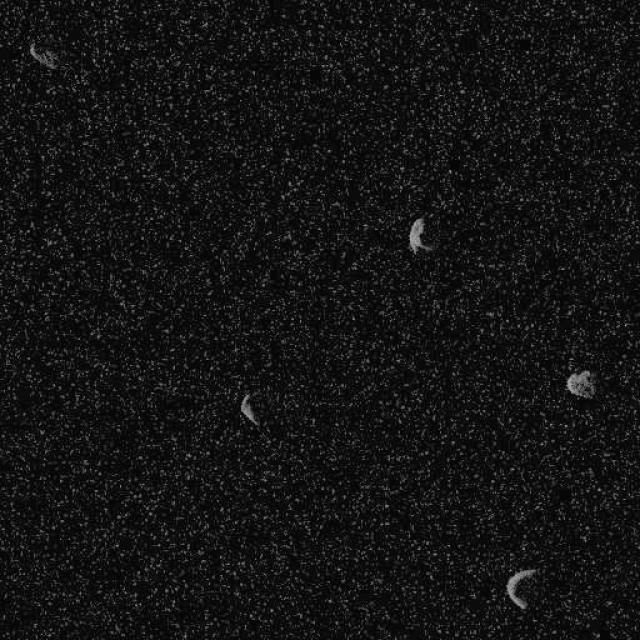D2: (503, 566, 538, 610), (28, 40, 62, 70), (408, 216, 433, 255), (565, 369, 595, 399), (239, 392, 261, 428)
